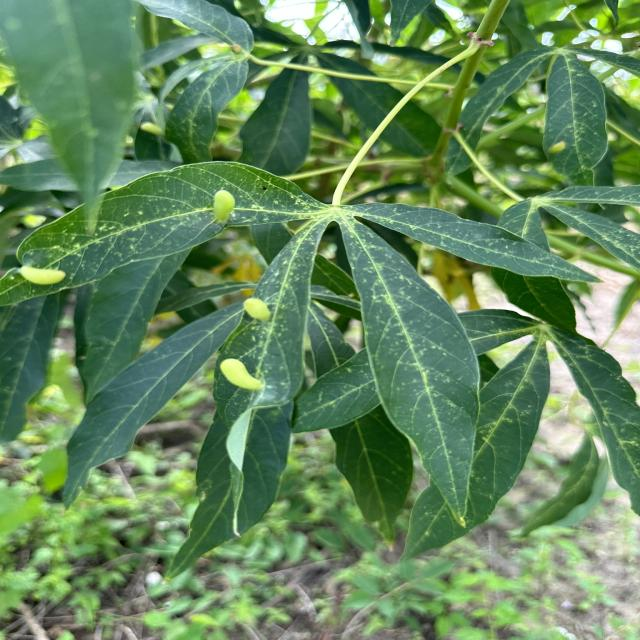Mosca: (208, 352, 271, 397), (14, 257, 73, 298), (241, 283, 288, 330), (197, 181, 238, 232), (133, 111, 174, 146), (543, 127, 578, 157), (9, 208, 50, 230), (229, 33, 244, 59)
